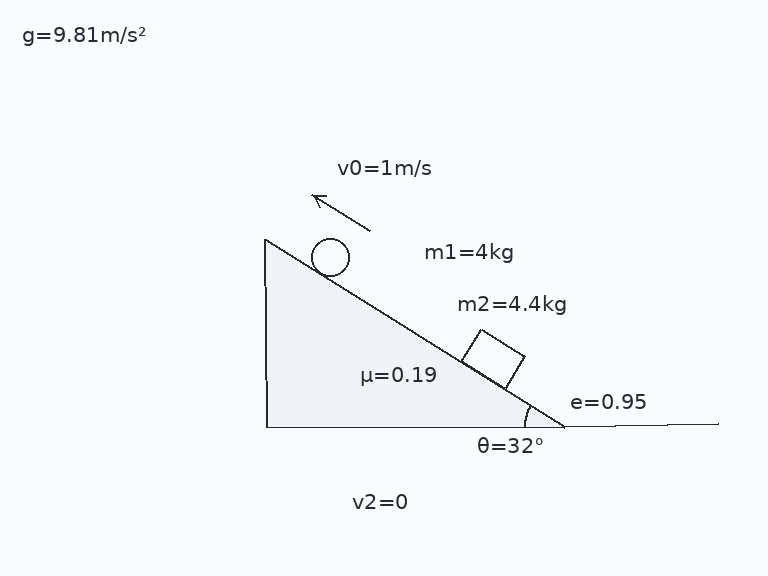ball: (309, 236, 351, 278)
block: (459, 327, 526, 390)
ramp: (264, 237, 567, 428)
